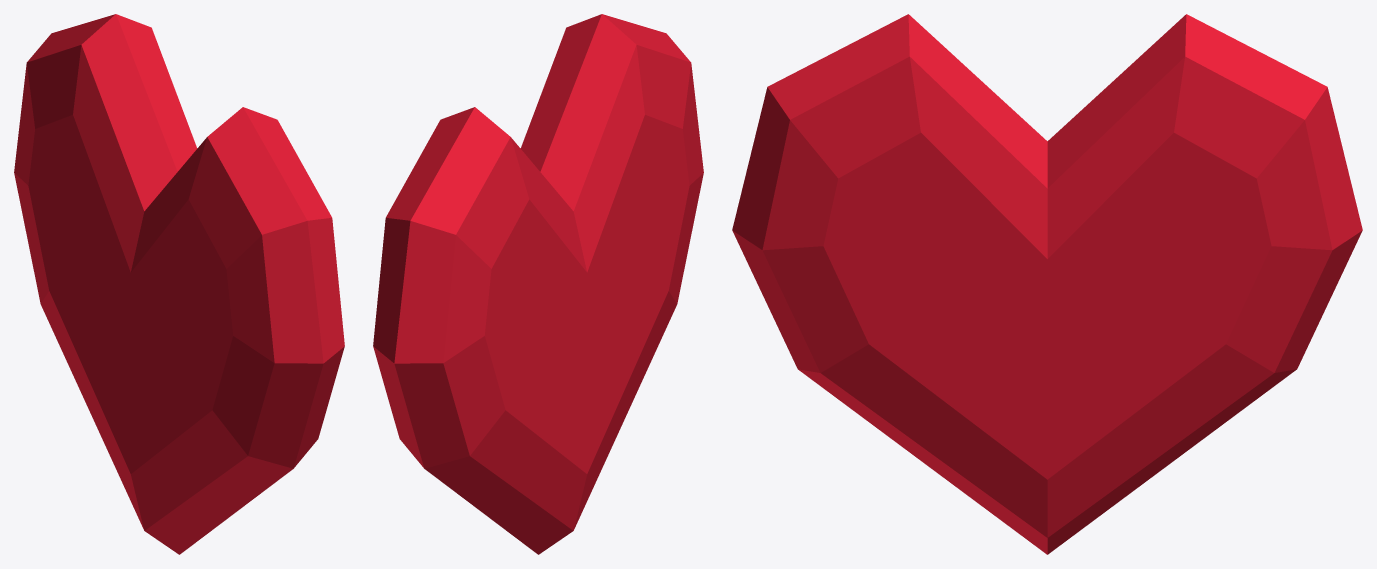
File: Heart.fbx
3 renders of one model, left to right at view 1: azimuth 30°, elevation 25°; view 2: azimuth 150°, elevation 25°; view 3: azimuth 270°, elevation 25°, orthographic. The views are drawn at different scales.
Visible parts, largest first — view 1: Plane; view 2: Plane; view 3: Plane.
Part boxes in pixels (x1,y1,x2,y2): Plane: (14,14,344,554); Plane: (373,14,703,554); Plane: (732,14,1362,554).
Bounding box in the file's own units: 89.29 × 433 × 458.
